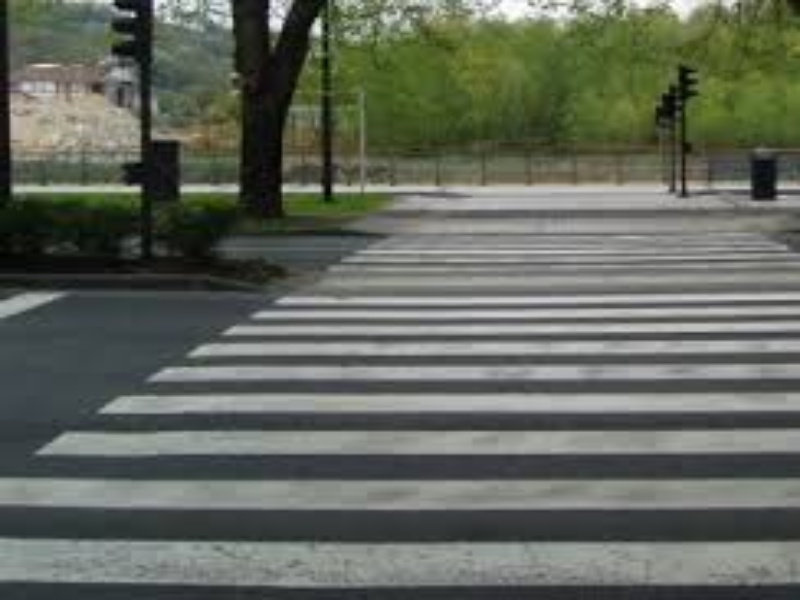zebra cross: (2, 232, 800, 585)
